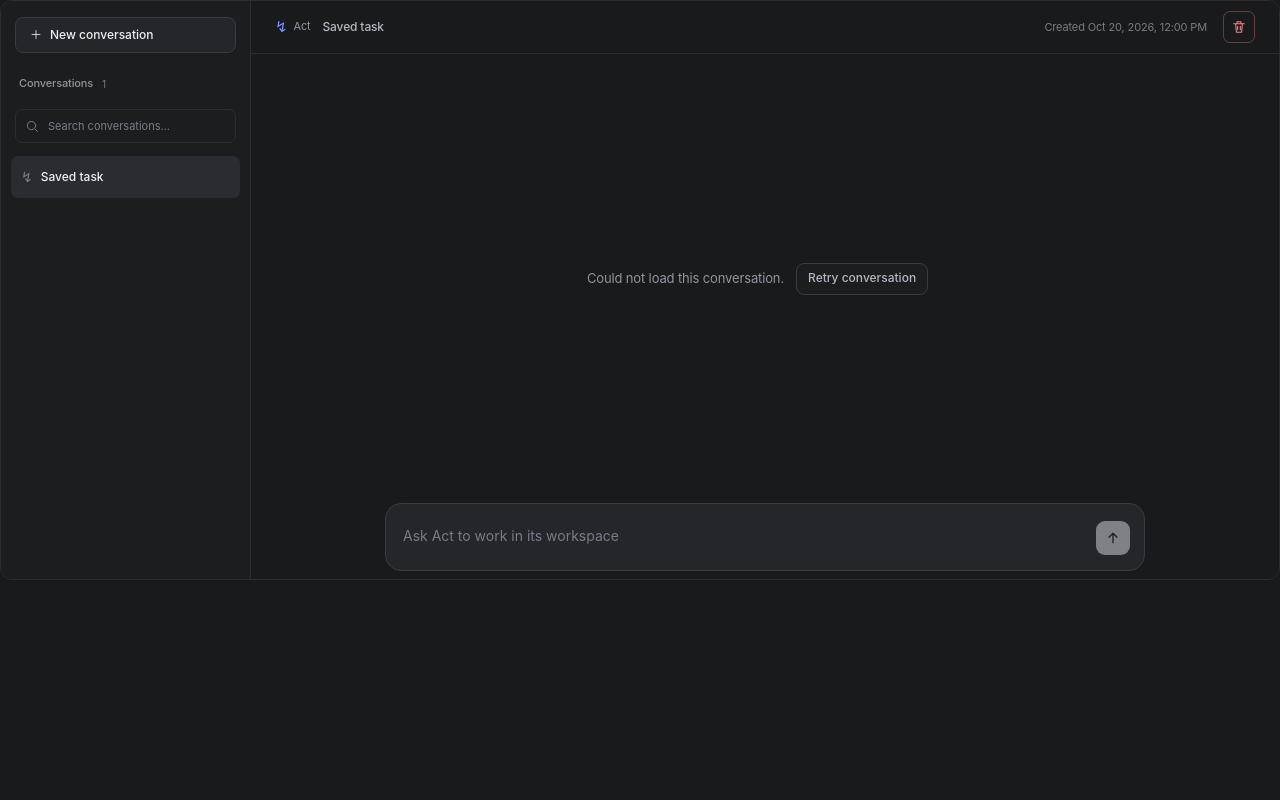
it: conversation surfaces › offers retry instead of a welcome when saved history cannot be loaded
Expected: the text "Could not load this conversation." is shown, [587,268,784,289]
Step 1. Click the button "Retry conversation" → (862, 278), box [796,262,928,294]
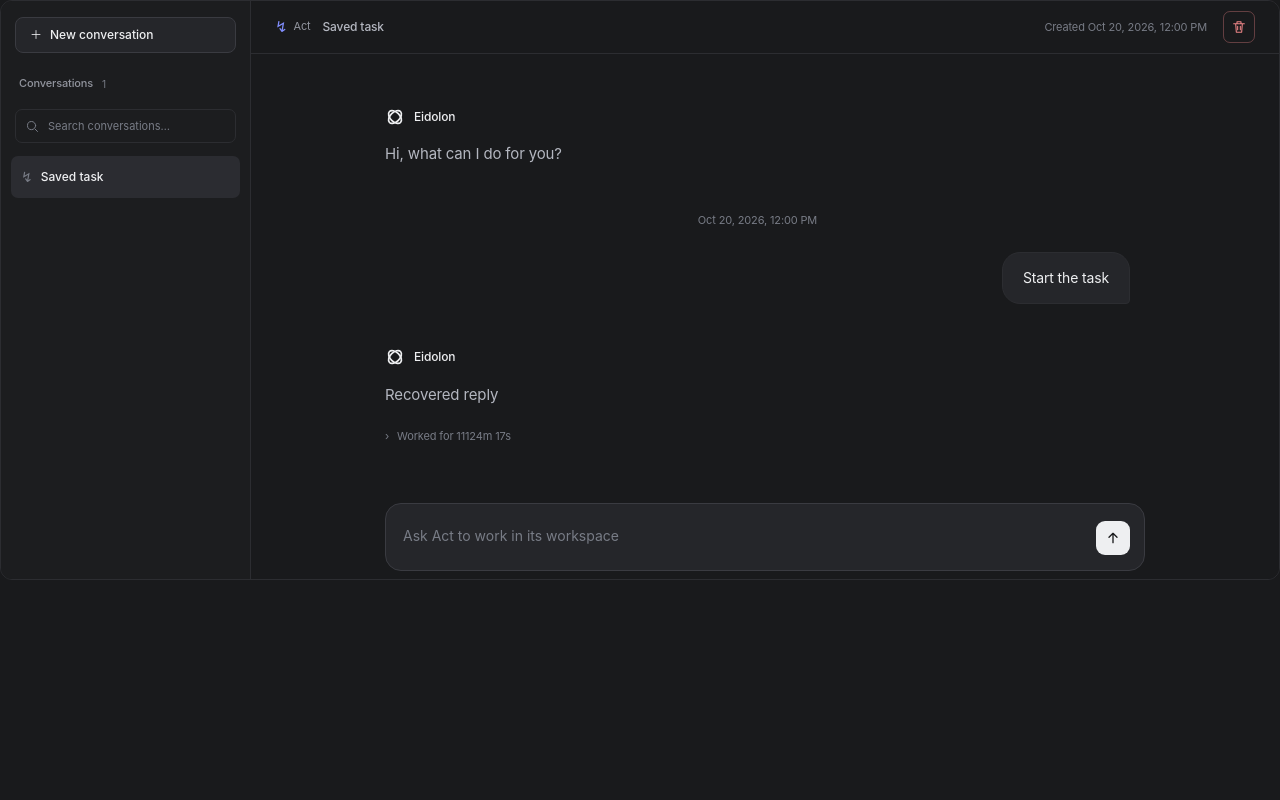
Expected: the text "Recovered reply" is shown, [385,384,498,404]
